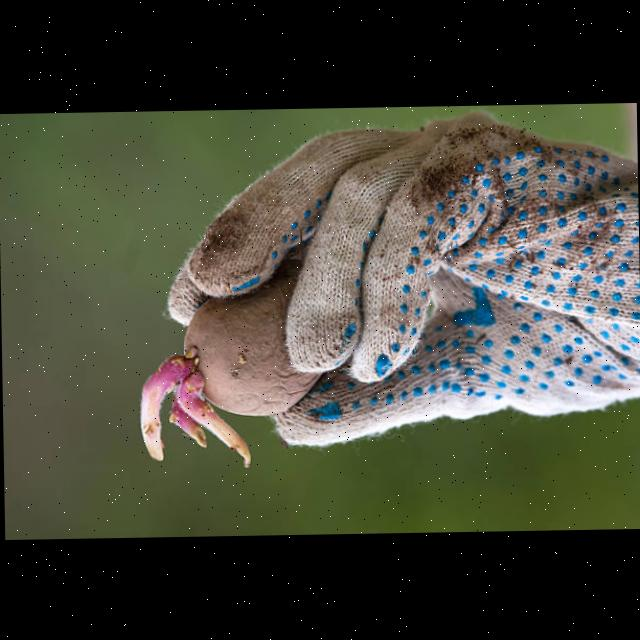Sprouted potato: (116, 264, 360, 476)
